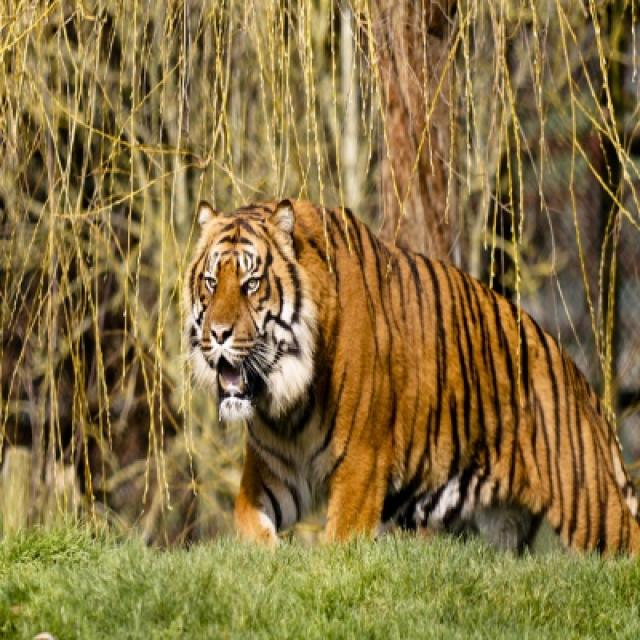Tiger: (188, 193, 638, 555)
